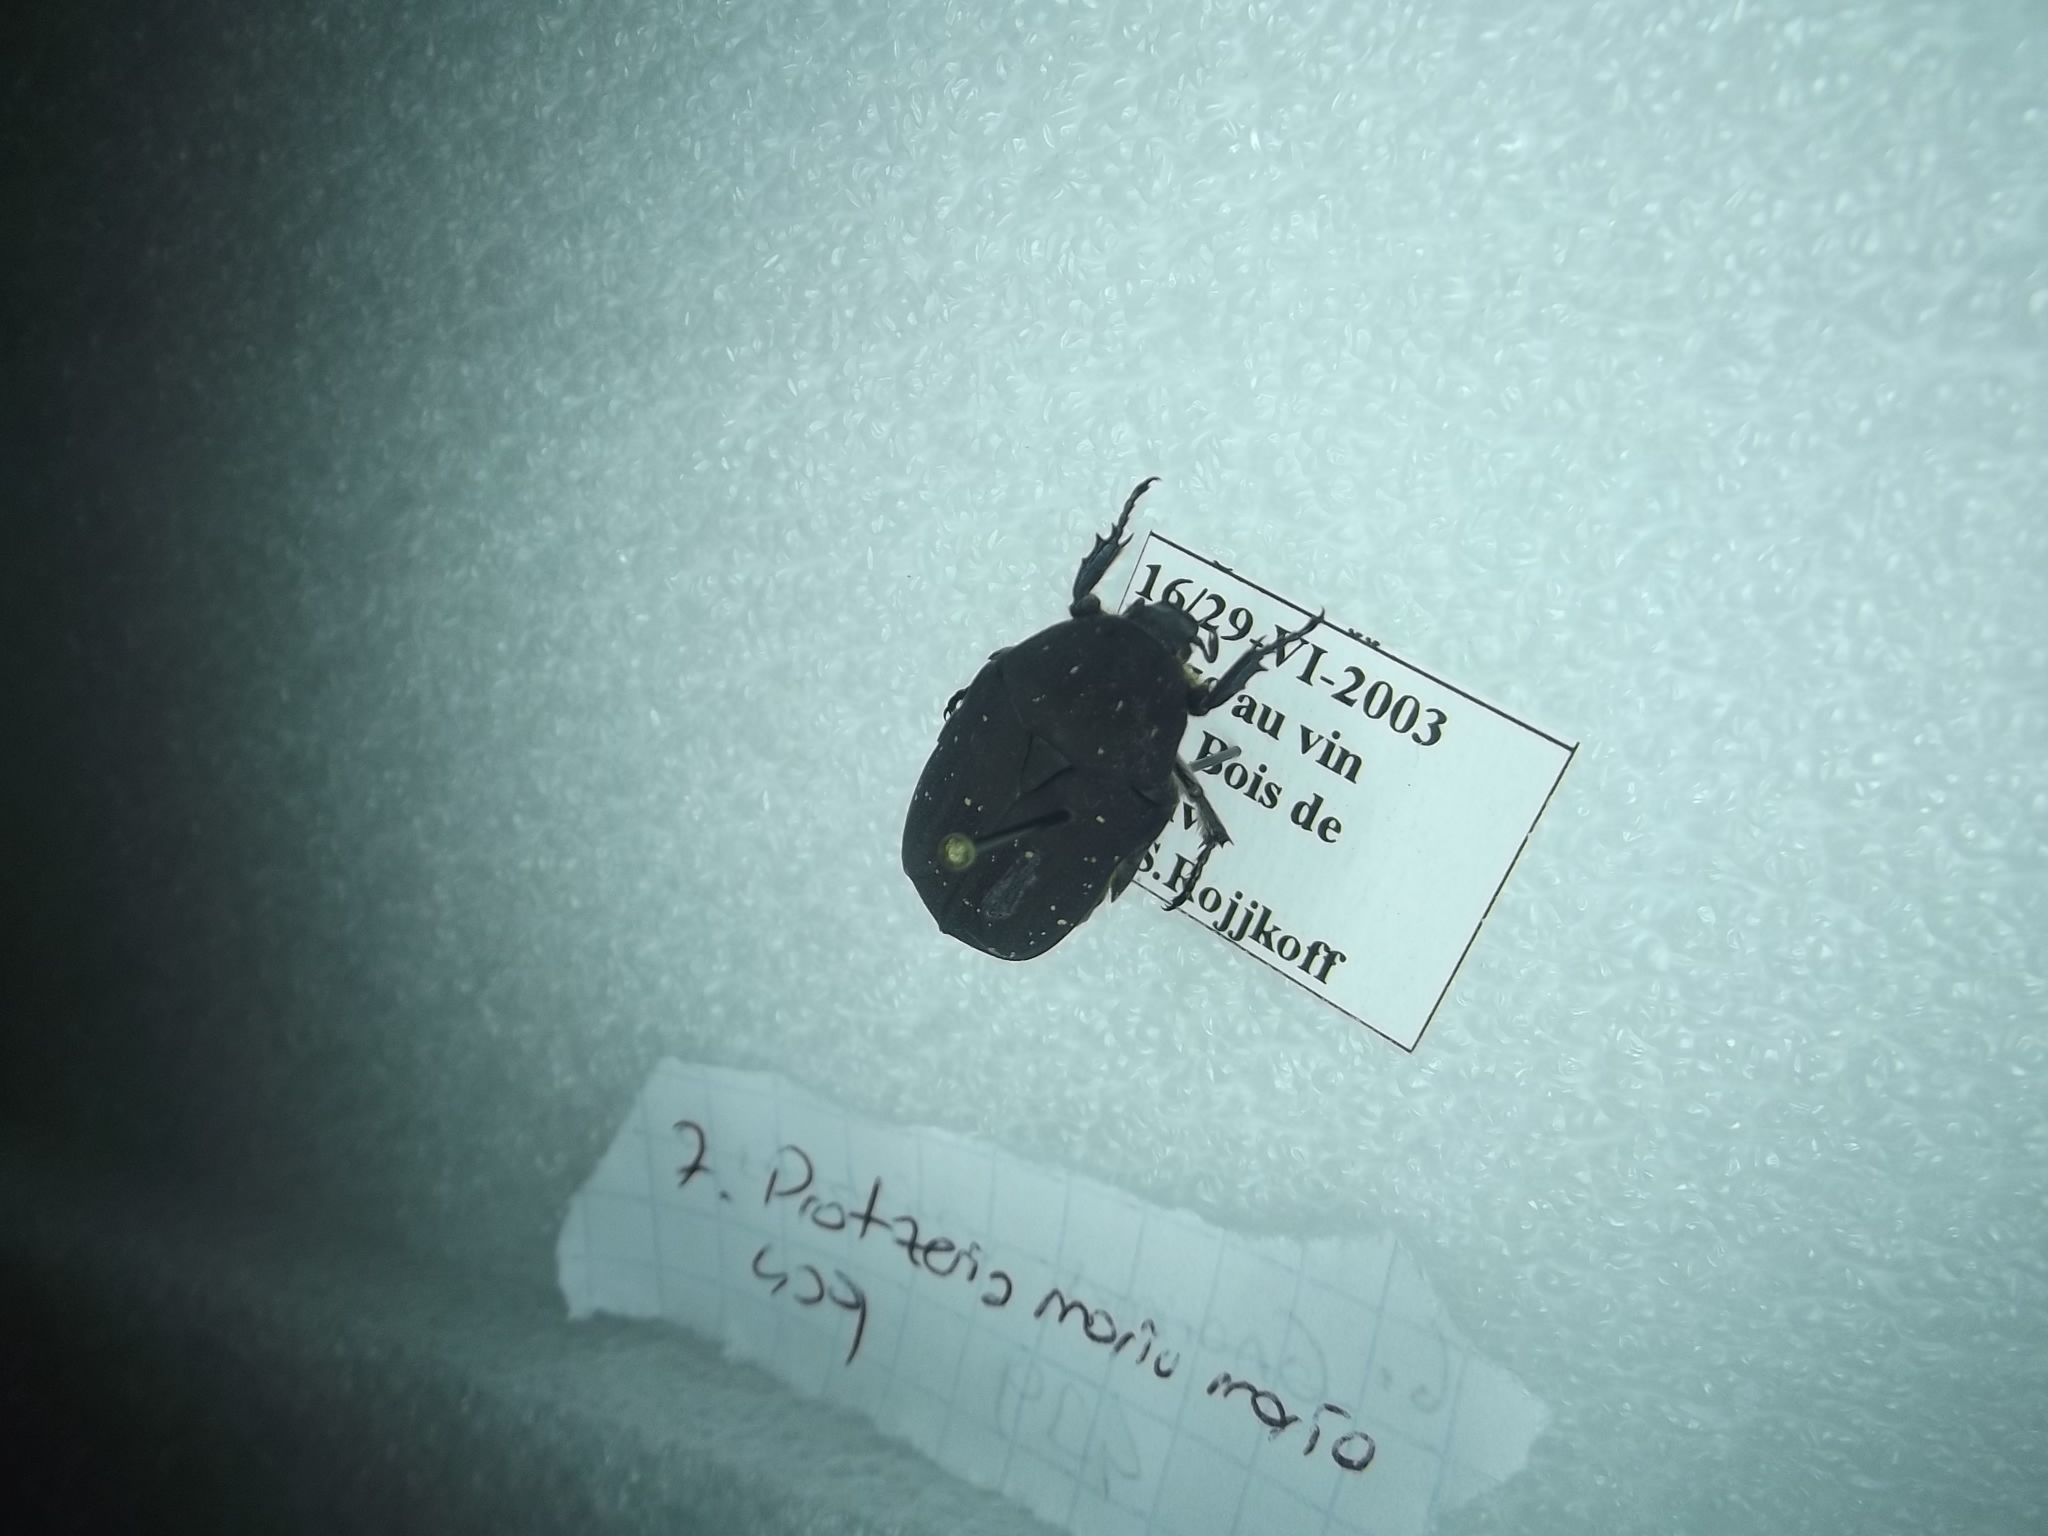Protaetia_morio_morio: (884, 452, 1364, 986)
